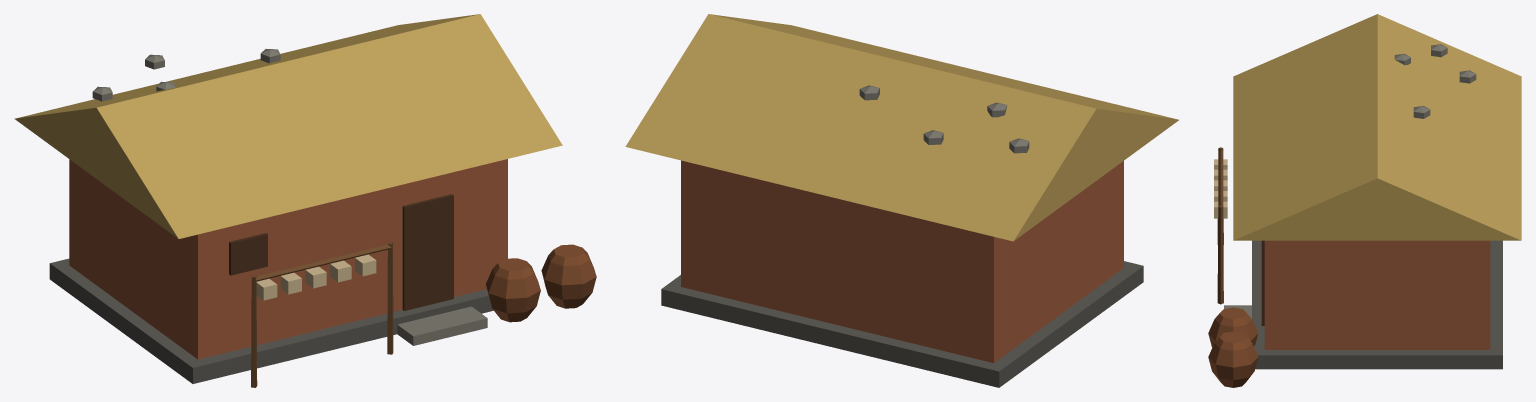
Rendered from a2v_house_sul.glb.
The picture shows the model from 3 angles, left to right: view 1: azimuth 30°, elevation 25°; view 2: azimuth 150°, elevation 25°; view 3: azimuth 270°, elevation 25°; orthographic projection. The views are drawn at different scales.
Visible parts, largest first — view 1: a2v_house_sul; view 2: a2v_house_sul; view 3: a2v_house_sul.
Part boxes in pixels (bbox=[...]): a2v_house_sul: bbox=[14, 14, 596, 387]; a2v_house_sul: bbox=[625, 14, 1178, 387]; a2v_house_sul: bbox=[1208, 14, 1521, 387].
Bounding box in the file's own units: 6.7 × 3.55 × 5.
